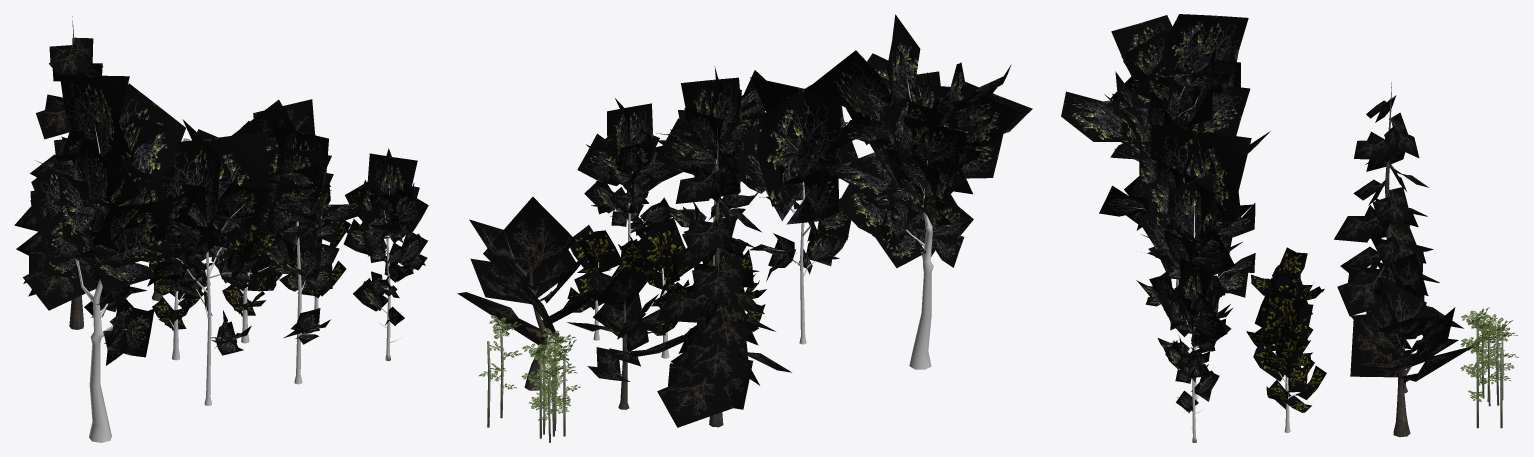
The model's file is Arboles.dae.
3 renders of one model, left to right at view 1: azimuth 30°, elevation 25°; view 2: azimuth 150°, elevation 25°; view 3: azimuth 270°, elevation 25°, orthographic. The views are drawn at different scales.
Visible parts, largest first — view 1: Arbol.004, Arbol.003, Arbol.002, Arbol.001, Arbol.010, Arbol.006, Arbol.008, Arbol.007, Arbol.005; view 2: Arbol.004, Arbol.010, Arbol.003, Arbol.008, Arbol.002, Arbol.001, Arbol.009, Arbol.006, Bambu, Arbol.005, Bambu.001, Arbol.007; view 3: Arbol.004, Arbol.010, Arbol.003, Arbol.002, Arbol.008, Arbol.001, Arbol.005, Arbol.006, Bambu, Arbol.009, Arbol.007, Bambu.001.
Boxes of the visible parts, x1,y1,x2,y2 form: Arbol.004: [30, 74, 203, 442]; Arbol.003: [147, 119, 273, 405]; Arbol.002: [245, 118, 368, 384]; Arbol.001: [343, 148, 428, 360]; Arbol.010: [14, 16, 148, 329]; Arbol.006: [211, 229, 290, 343]; Arbol.008: [197, 99, 331, 275]; Arbol.007: [138, 254, 212, 360]; Arbol.005: [295, 220, 350, 324]; Arbol.004: [805, 14, 1032, 369]; Arbol.010: [656, 127, 791, 427]; Arbol.003: [735, 77, 857, 344]; Arbol.008: [457, 196, 599, 390]; Arbol.002: [655, 66, 765, 265]; Arbol.001: [577, 98, 682, 252]; Arbol.009: [567, 267, 684, 409]; Arbol.006: [618, 217, 693, 358]; Bambu: [521, 328, 581, 442]; Arbol.005: [567, 225, 632, 340]; Bambu.001: [479, 315, 522, 418]; Arbol.007: [719, 249, 766, 332]; Arbol.004: [1061, 14, 1270, 287]; Arbol.010: [1334, 82, 1463, 335]; Arbol.003: [1133, 117, 1255, 347]; Arbol.002: [1136, 172, 1255, 405]; Arbol.008: [1350, 277, 1473, 437]; Arbol.001: [1157, 258, 1231, 442]; Arbol.005: [1253, 325, 1326, 432]; Arbol.006: [1246, 273, 1314, 393]; Bambu: [1460, 307, 1518, 406]; Arbol.009: [1370, 252, 1458, 393]; Arbol.007: [1251, 247, 1324, 337]; Bambu.001: [1460, 331, 1494, 428].
Bounding box in the file's own units: 14.68 × 15.53 × 11.73.
